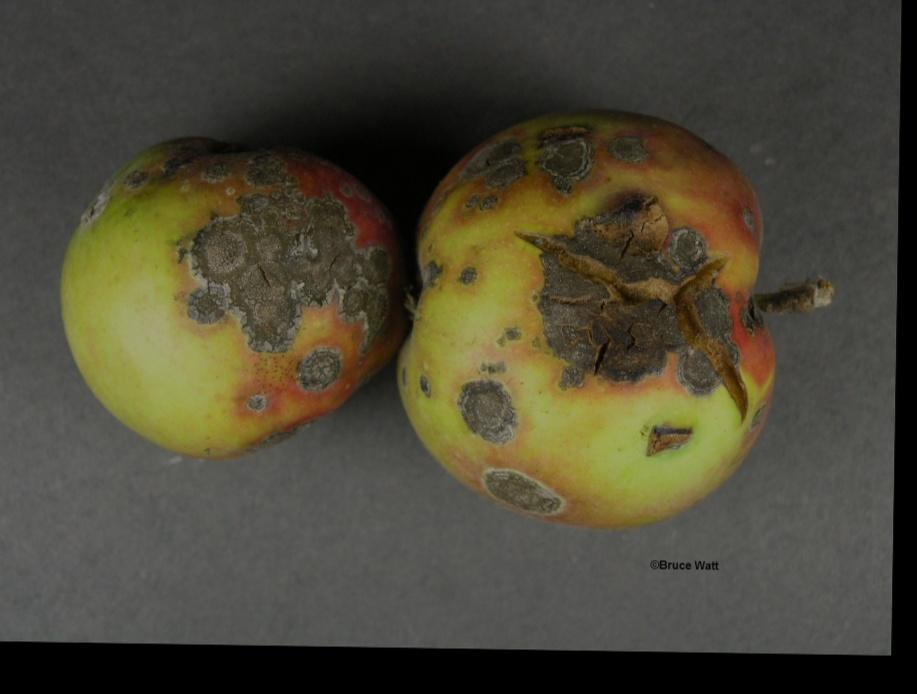rotten apple: (407, 98, 804, 528), (34, 127, 402, 485)
